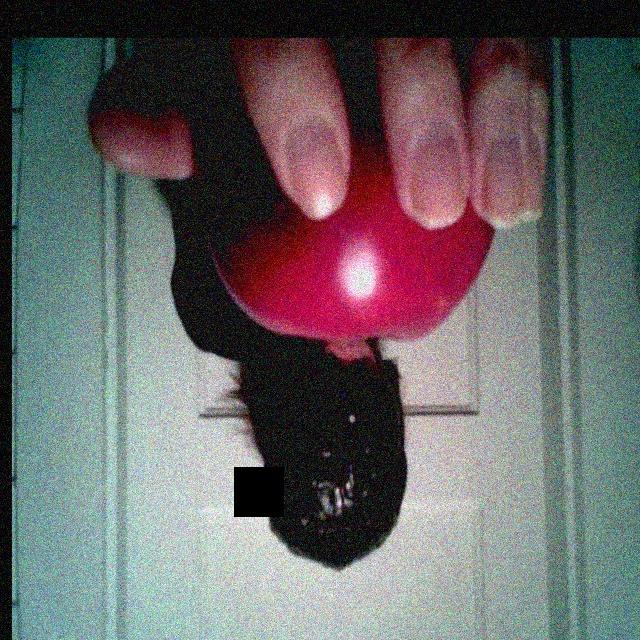red apple: (207, 130, 517, 343)
